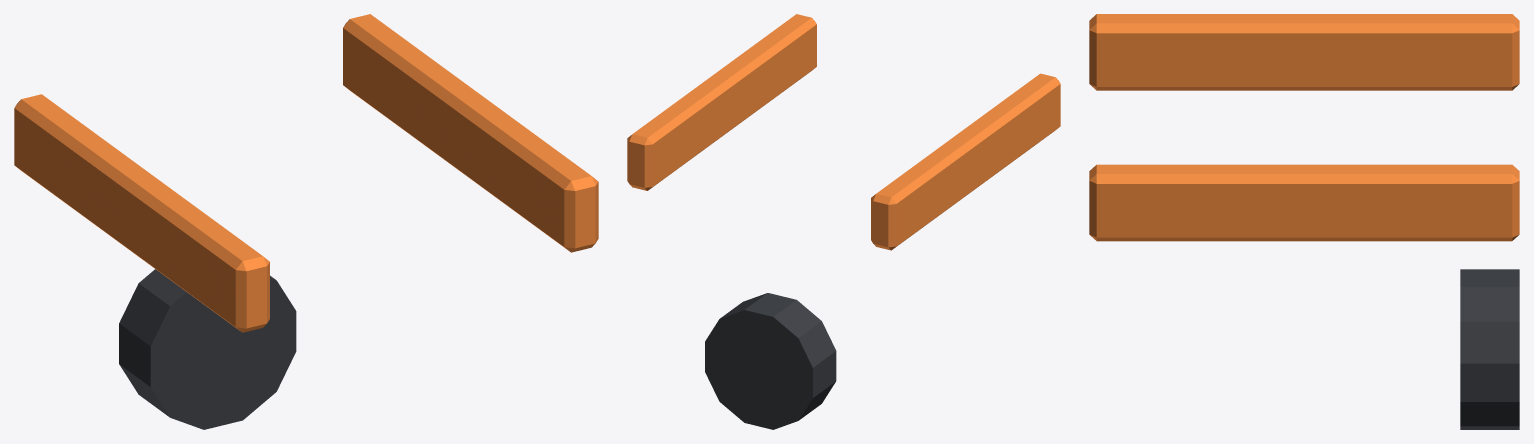
The model's file is lit_guarded_toggle_body.glb.
3 views of the same model, side by side, from view 1: azimuth 30°, elevation 25°; view 2: azimuth 150°, elevation 25°; view 3: azimuth 270°, elevation 25° (orthographic). The views are drawn at different scales.
Parts seen in each view (by area): view 1: LitGuardedToggleBody; view 2: LitGuardedToggleBody; view 3: LitGuardedToggleBody.
Part boxes in pixels (x1,y1,x2,y2): LitGuardedToggleBody: (14, 14, 598, 429); LitGuardedToggleBody: (627, 14, 1060, 429); LitGuardedToggleBody: (1089, 14, 1519, 429).
Bounding box in the file's own units: 0.053 × 0.0486 × 0.058.
